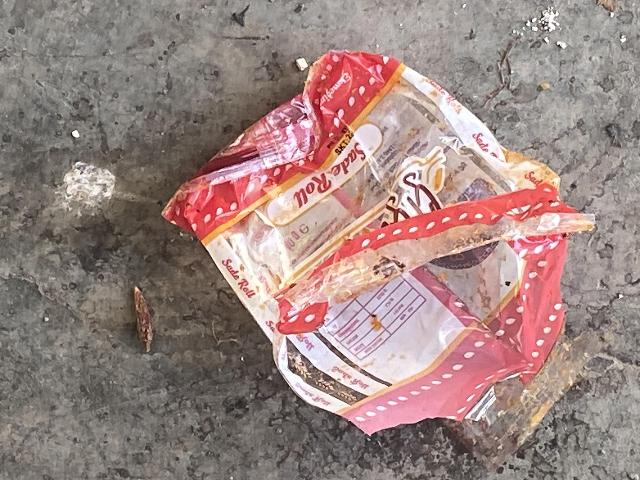Plastik: (162, 46, 583, 457)
